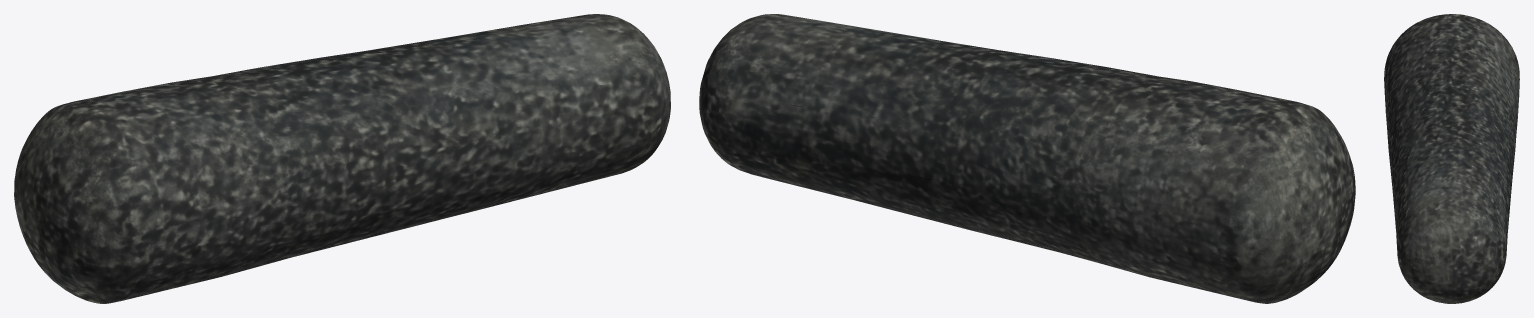
Rendered from Pestle.fbx.
The picture shows the model from 3 angles, left to right: view 1: azimuth 30°, elevation 25°; view 2: azimuth 150°, elevation 25°; view 3: azimuth 270°, elevation 25°; orthographic projection. The views are drawn at different scales.
Visible parts, largest first — view 1: output_unwrapped; view 2: output_unwrapped; view 3: output_unwrapped.
Boxes of the visible parts, box(x1,y1,x2,y2) form: output_unwrapped: box(14, 14, 670, 303); output_unwrapped: box(699, 14, 1355, 303); output_unwrapped: box(1384, 14, 1519, 303).
Size of the model in its own units: 190 by 54.41 by 54.74.
1 material, 1 textured.
